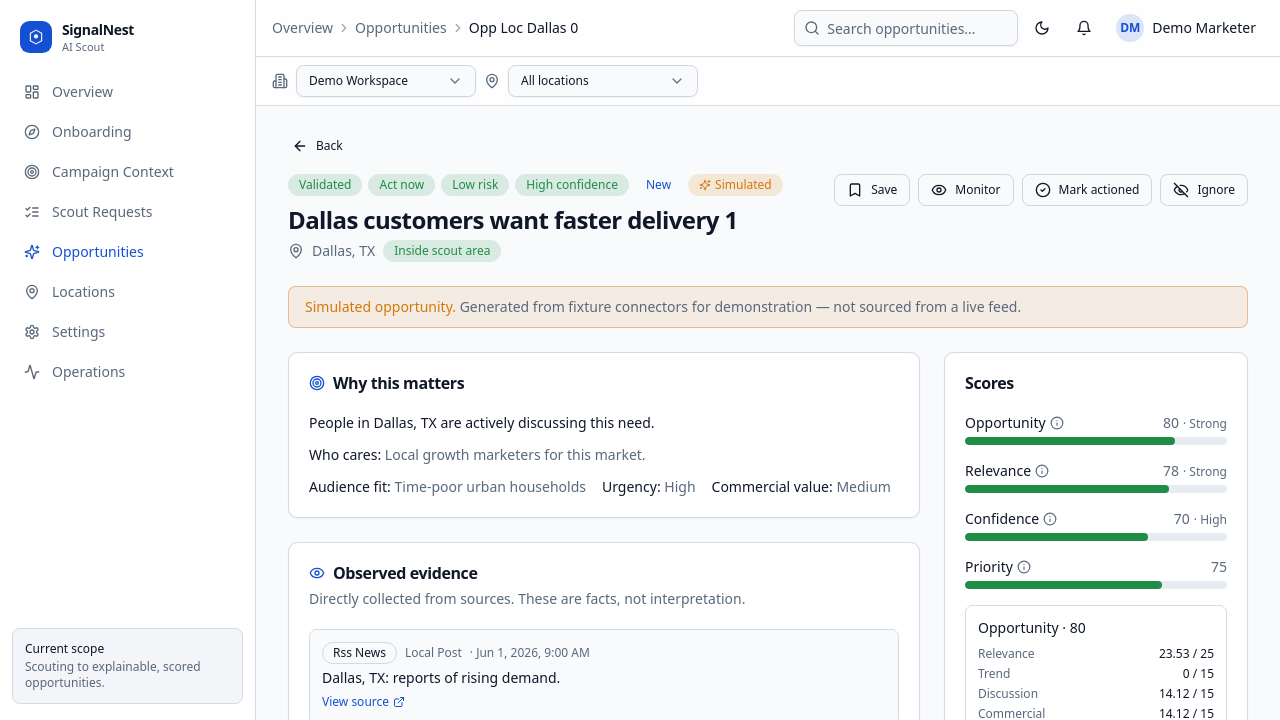
Test: opportunity detail › lets the user change an opportunity status
Expected: the heading "Dallas customers want faster delivery 1" is shown, top-left (288, 204), bottom-right (783, 236)
Click the button "Save" at (872, 190), box top-left (834, 174), bottom-right (910, 206)
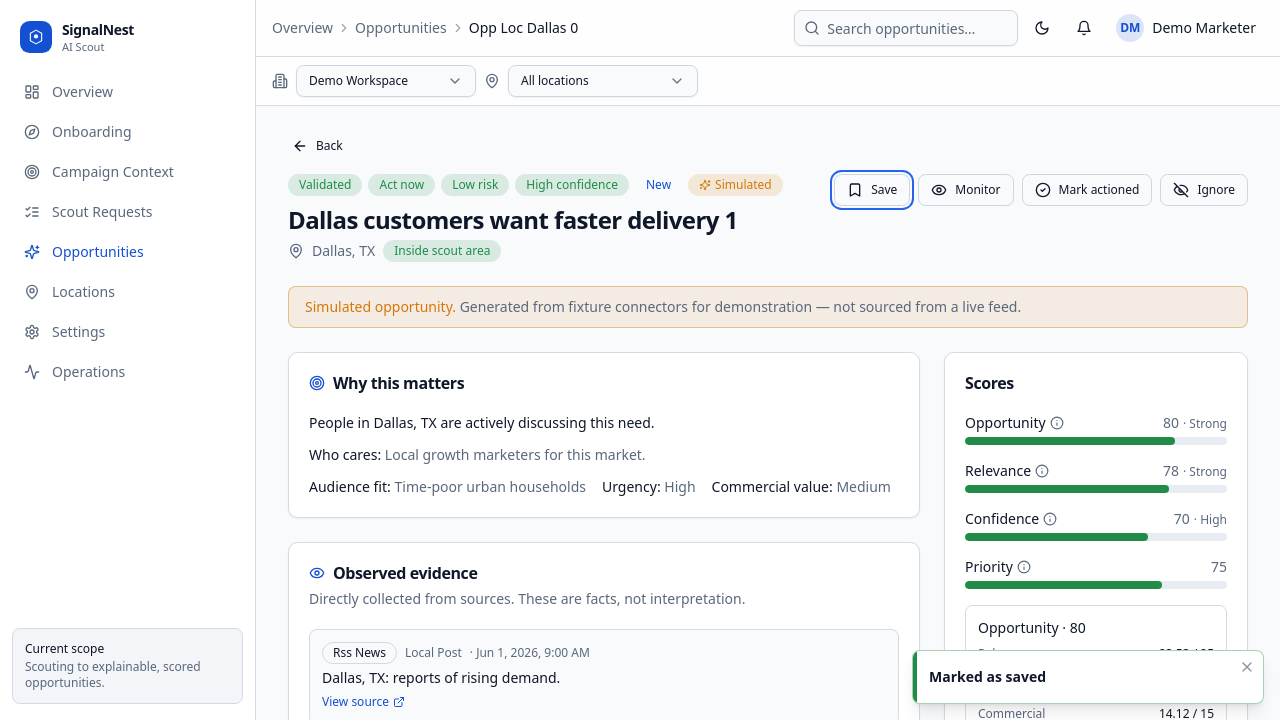
Expected: the text "Marked as saved" is shown, top-left (929, 667), bottom-right (1046, 687)
